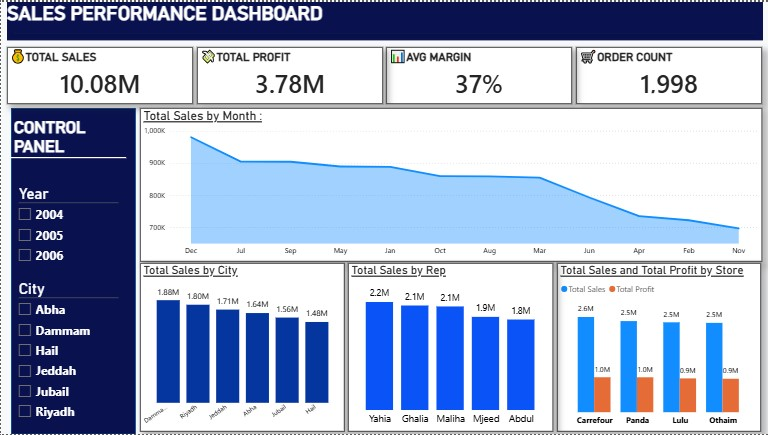

The dashboard page shown, as its layout file describes it:
{"tool":"powerbi","page":{"name":"Page ١","canvas":[1280,720],"ordinal":0},"visuals":[{"type":"shape","box":[16,176,208,544],"z":0},{"type":"shape","title":"SALES PERFORMANCE DASHBOARD","box":[10,0,1260,64],"z":1000},{"type":"cardVisual","title":"💰TOTAL SALES","fields":{"Data":["Sheet1.Total Sales"]},"box":[10,75,310,95],"z":2000},{"type":"cardVisual","title":"🛒ORDER COUNT","fields":{"Data":["Sheet1.Order Count"]},"box":[958,75,310,95],"z":3000},{"type":"cardVisual","title":"📊AVG MARGIN","fields":{"Data":["Sheet1.Avg Profit Margin"]},"box":[642,75,310,95],"z":4000},{"type":"cardVisual","title":"💸TOTAL PROFIT","fields":{"Data":["Sheet1.Total Profit"]},"box":[326,75,310,95],"z":5000},{"type":"lineChart","title":"Total Sales by Month :","fields":{"Category":["Sheet1.Month Name"],"Y":["Sheet1.Total Sales"]},"box":[231,176,1037,256],"z":6000},{"type":"slicer","fields":{"Values":["Sheet1.Year"]},"box":[16,300,192,145],"z":7000},{"type":"slicer","fields":{"Values":["Sheet1.City"]},"box":[16,459,192,249],"z":8000},{"type":"clusteredColumnChart","fields":{"Category":["Sheet1.City"],"Y":["Sheet1.Total Sales"]},"box":[231,435,341,281],"z":9000},{"type":"clusteredColumnChart","fields":{"Y":["Sheet1.Total Sales","Sheet1.Total Profit"],"Category":["Sheet1.Store"]},"box":[927,435,340,281],"z":10000},{"type":"clusteredColumnChart","fields":{"Category":["Sheet1.Rep"],"Y":["Sheet1.Total Sales"]},"box":[578,435,342,281],"z":11000},{"type":"actionButton","title":"CONTROL PANEL ","box":[21,191,210,97],"z":12000},{"type":"shape","box":[16,244,192,32],"z":13000}]}

Visuals, with their boxes in screenshot pixels (x1, y1, x2, y2), scaled from the page's 1280x720 canvas onto the 768x435 screenshot:
shape: Rect(10, 106, 134, 434)
"SALES PERFORMANCE DASHBOARD" shape: Rect(6, 0, 762, 39)
"💰TOTAL SALES" cardVisual: Rect(6, 45, 192, 103)
"🛒ORDER COUNT" cardVisual: Rect(575, 45, 761, 103)
"📊AVG MARGIN" cardVisual: Rect(385, 45, 571, 103)
"💸TOTAL PROFIT" cardVisual: Rect(196, 45, 382, 103)
"Total Sales by Month :" lineChart: Rect(139, 106, 761, 261)
slicer - Sheet1.Year: Rect(10, 181, 125, 269)
slicer - Sheet1.City: Rect(10, 277, 125, 428)
clusteredColumnChart - Sheet1.City x Sheet1.Total Sales: Rect(139, 263, 343, 433)
clusteredColumnChart - Sheet1.Total Sales x Sheet1.Total Profit: Rect(556, 263, 760, 433)
clusteredColumnChart - Sheet1.Rep x Sheet1.Total Sales: Rect(347, 263, 552, 433)
"CONTROL PANEL " actionButton: Rect(13, 115, 139, 174)
shape: Rect(10, 147, 125, 167)
